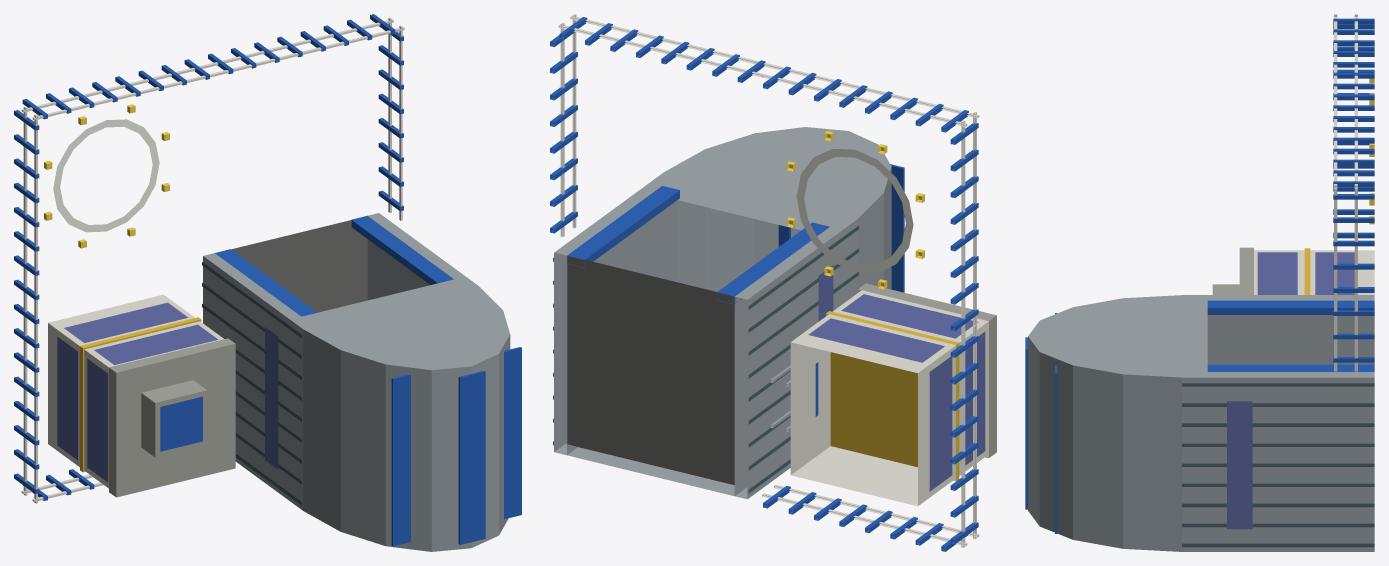
3 views of the same model, side by side, from view 1: azimuth 30°, elevation 25°; view 2: azimuth 150°, elevation 25°; view 3: azimuth 270°, elevation 25° (orthographic). The views are drawn at different scales.
Visible parts, largest first — view 1: t1_0_g24, t0_0_g63, t0_1_g61, t1_1_g62; view 2: t1_0_g24, t0_0_g63, t0_1_g61, t1_1_g62; view 3: t1_0_g24, t0_0_g63, t1_1_g62, t0_1_g61.
Boxes of the visible parts, x1,y1,x2,y2 form: t1_0_g24: (202,213,521,551); t0_0_g63: (14,294,235,503); t0_1_g61: (14,59,219,309); t1_1_g62: (207,14,404,220); t1_0_g24: (553,127,904,499); t0_0_g63: (762,283,996,551); t0_1_g61: (762,65,979,334); t1_1_g62: (550,14,775,237); t1_0_g24: (1025,295,1374,551); t0_0_g63: (1212,209,1374,294); t1_1_g62: (1333,101,1374,371); t0_1_g61: (1333,14,1374,224).
Size of the model in its own units: 32 by 32 by 27.2.
